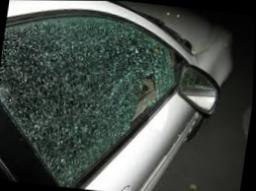Door: (0, 21, 194, 184)
